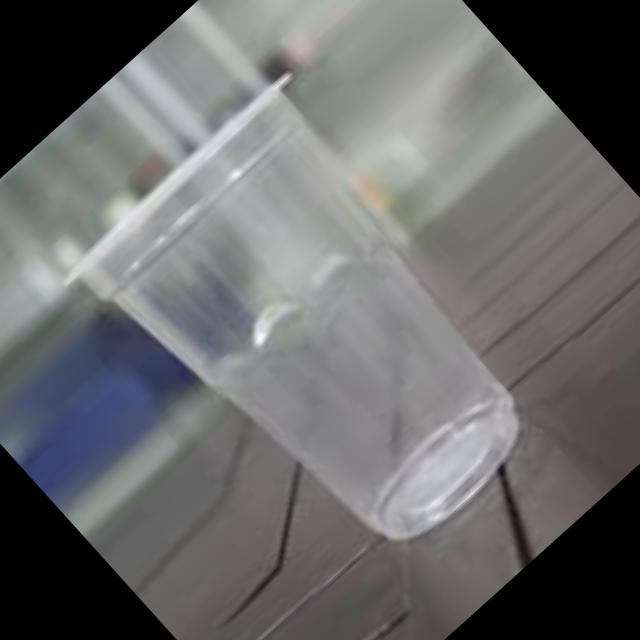GelasPlastik: (51, 64, 584, 606)
